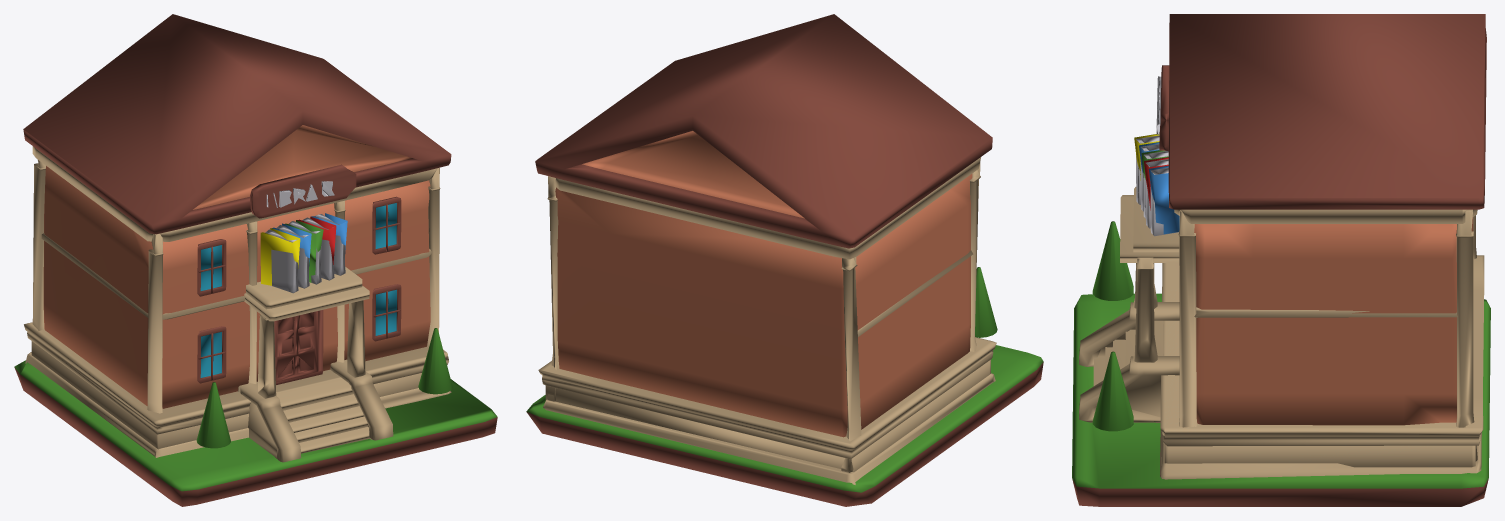
Rendered from Library.glb.
3 views of the same model, side by side, from view 1: azimuth 30°, elevation 25°; view 2: azimuth 150°, elevation 25°; view 3: azimuth 270°, elevation 25° (orthographic). The views are drawn at different scales.
Parts seen in each view (by area): view 1: 3d66-Editable_Poly-21534437-001; view 2: 3d66-Editable_Poly-21534437-001; view 3: 3d66-Editable_Poly-21534437-001.
Part boxes in pixels (x1,y1,x2,y2): 3d66-Editable_Poly-21534437-001: (14, 14, 497, 506); 3d66-Editable_Poly-21534437-001: (526, 14, 1043, 506); 3d66-Editable_Poly-21534437-001: (1072, 14, 1490, 506).
Size of the model in its own units: 1.39 by 1.38 by 1.3.
1 material, 1 textured.
